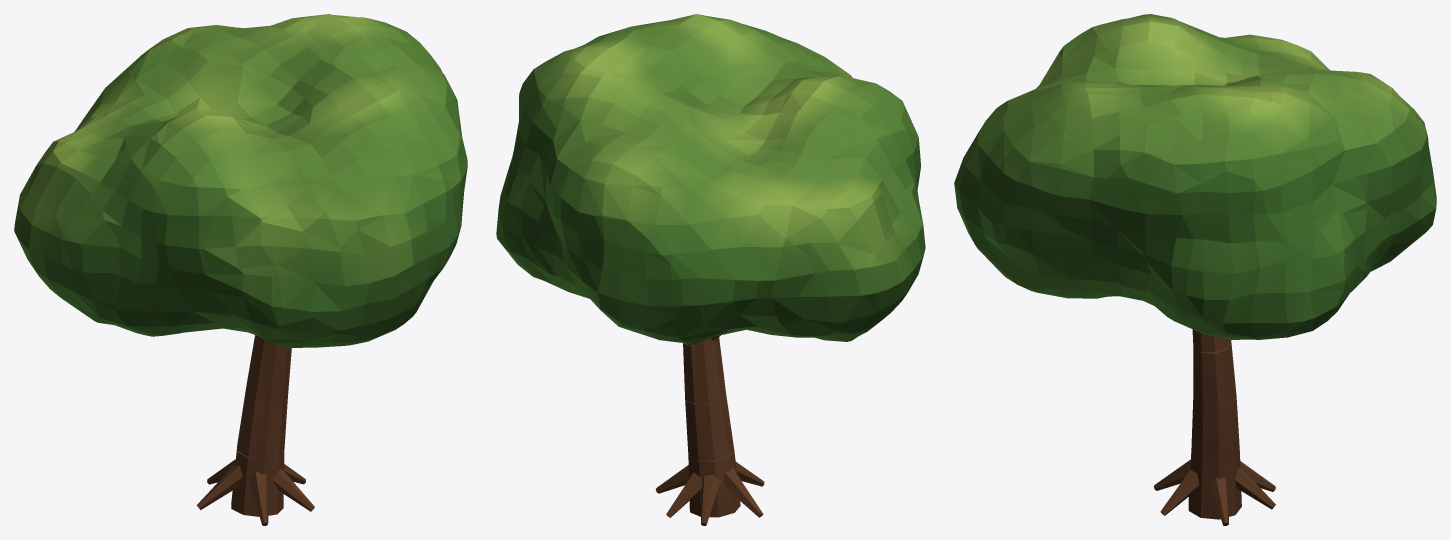
The model's file is tree_oak.glb.
The picture shows the model from 3 angles, left to right: view 1: azimuth 30°, elevation 25°; view 2: azimuth 150°, elevation 25°; view 3: azimuth 270°, elevation 25°; orthographic projection. The views are drawn at different scales.
Visible parts, largest first — view 1: OakCrown, Oak; view 2: OakCrown, Oak; view 3: OakCrown, Oak.
Part boxes in pixels (x1,y1,x2,y2): OakCrown: [14, 14, 467, 347]; Oak: [196, 335, 314, 525]; OakCrown: [496, 14, 925, 344]; Oak: [655, 335, 764, 525]; OakCrown: [954, 14, 1436, 339]; Oak: [1153, 329, 1275, 525].
Size of what is drawn, in the model's own units: 7.73 by 8.34 by 7.88.
